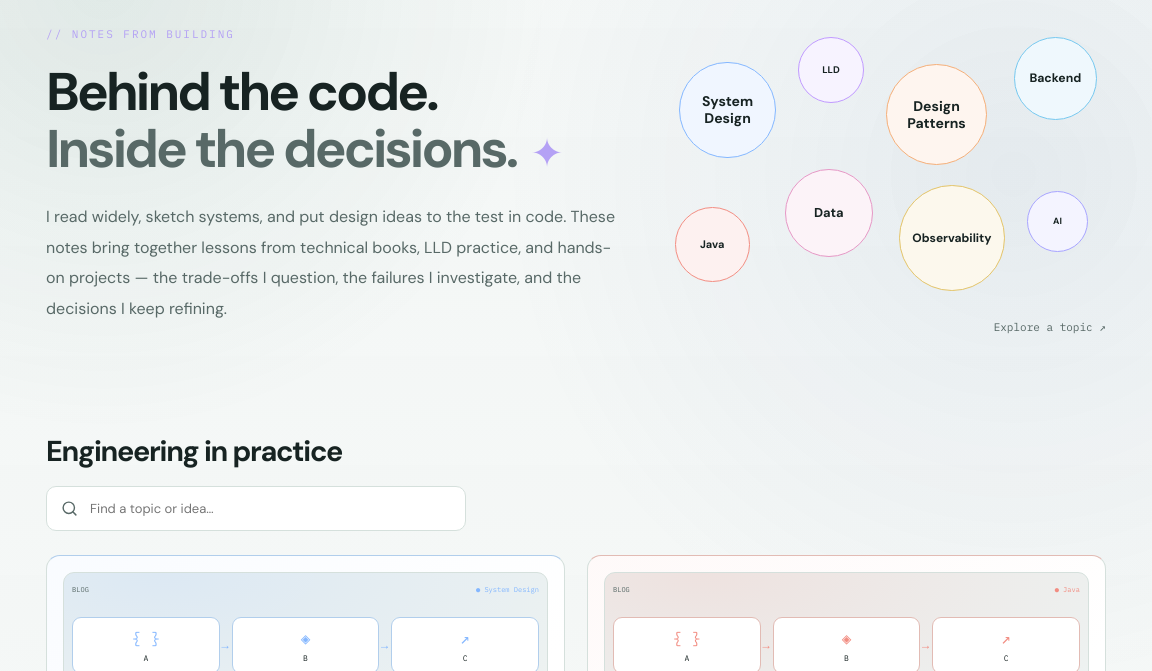
BlogShelf › filters and resets search
Type "interfaces" into the search field named "Search articles" at (270, 509), box [88, 499, 451, 518]
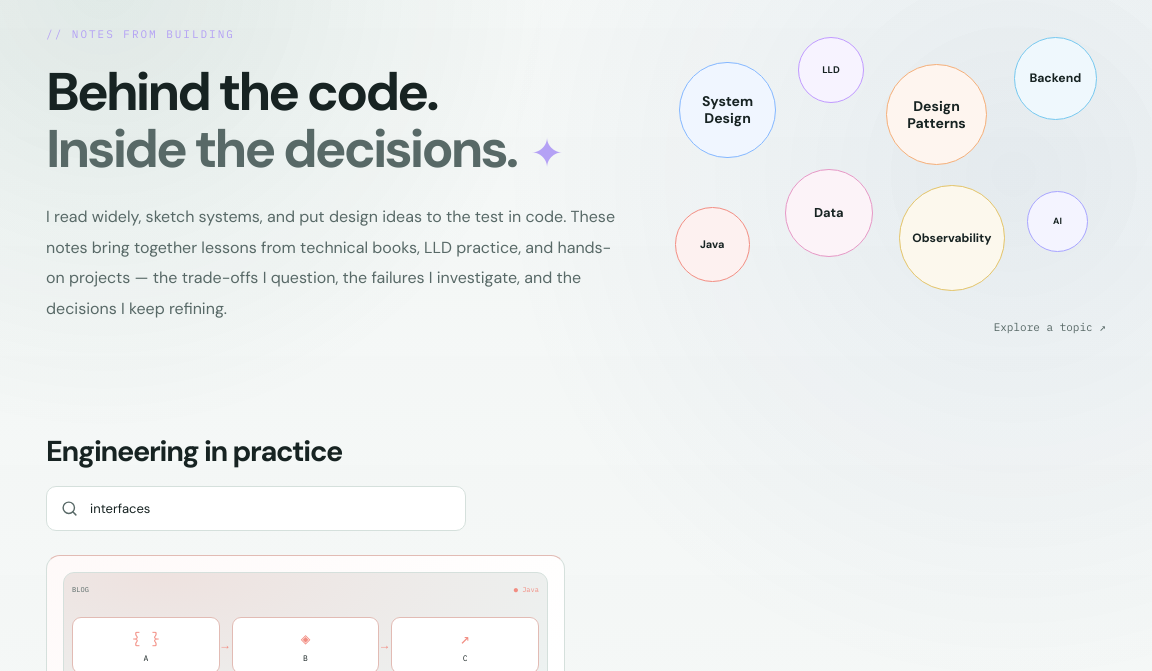
Replace the text in the search field named "Search articles" with "missing" at (270, 509), box [88, 499, 451, 518]
(page scrolled)
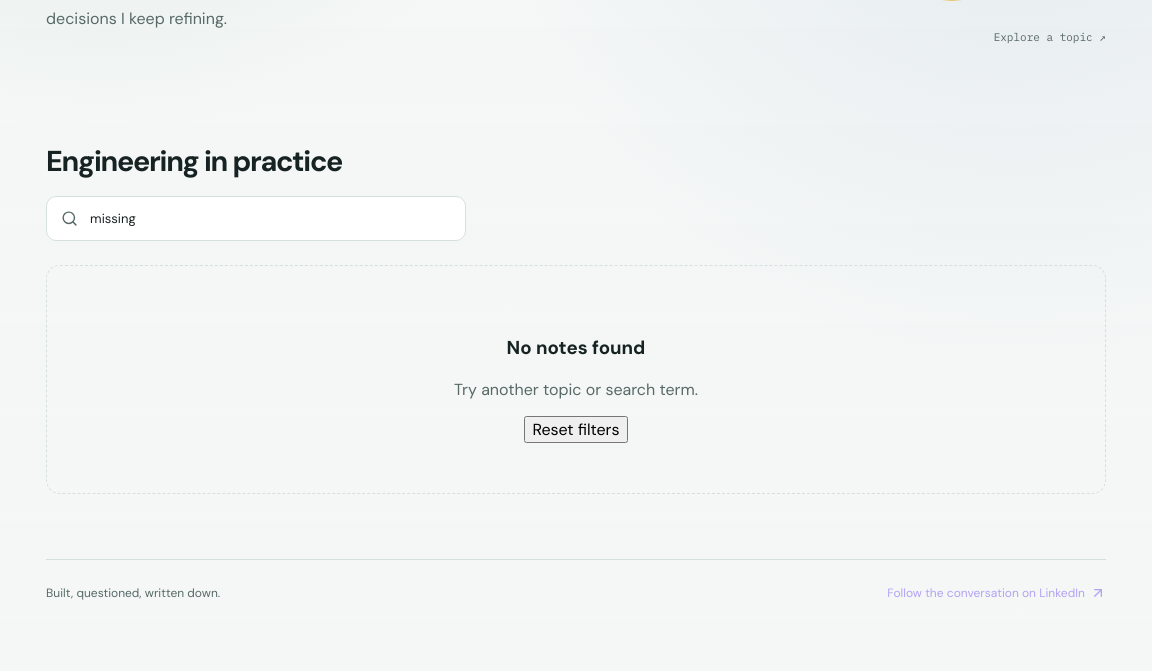
Expected: the heading "No notes found" is shown, [507, 335, 645, 360]
Click the button "Reset filters" at (576, 429), box [524, 416, 628, 442]
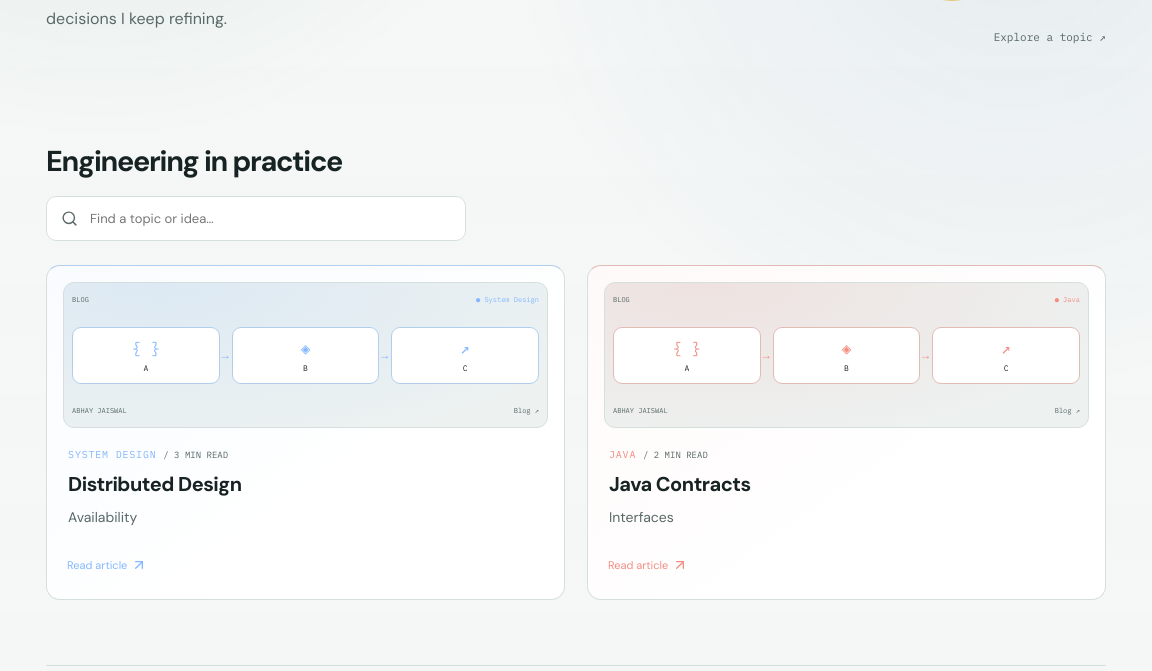
Expected: the link named "Distributed Design" is shown, [47, 266, 564, 547]
